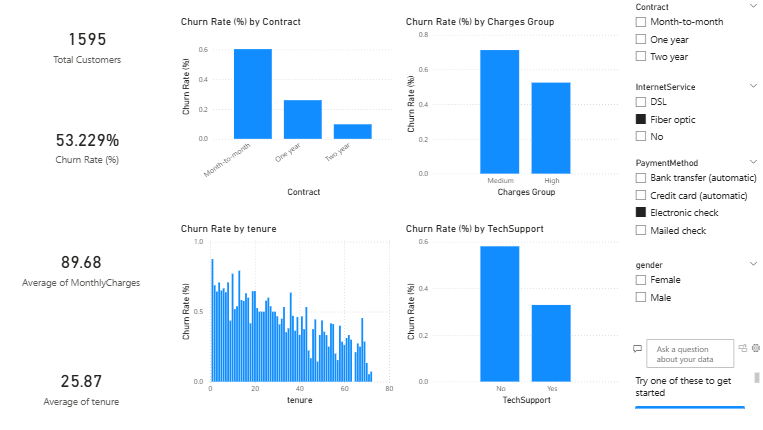

What the dashboard file says about the page in this screenshot:
{"tool":"powerbi","page":{"name":"Page 1","canvas":[1280,720],"ordinal":0},"visuals":[{"type":"card","fields":{"Values":["cleaned_telco_churn.Total Customers"]},"box":[10.1,0,280.5,151.2],"z":0},{"type":"card","fields":{"Values":["cleaned_telco_churn.Churn Rate (%)"]},"box":[10.1,151.2,280.5,183.1],"z":1000},{"type":"card","fields":{"Values":["Avg(cleaned_telco_churn.MonthlyCharges)"]},"box":[0,371.2,280.5,151.2],"z":2000},{"type":"card","fields":{"Values":["Avg(cleaned_telco_churn.tenure)"]},"box":[0,569.4,280.5,151.2],"z":3000},{"type":"clusteredColumnChart","fields":{"Category":["cleaned_telco_churn.Contract"],"Y":["cleaned_telco_churn.Churn Rate (%)"]},"box":[302.4,26.9,364.5,307.4],"z":4000},{"type":"clusteredColumnChart","title":"Churn Rate by tenure","fields":{"Y":["cleaned_telco_churn.Churn Rate (%)"],"Category":["cleaned_telco_churn.tenure"]},"box":[302.4,371.2,364.5,309.1],"z":5000},{"type":"clusteredColumnChart","fields":{"Y":["cleaned_telco_churn.Churn Rate (%)"],"Category":["cleaned_telco_churn.Charges Group"]},"box":[677,26.9,364.5,307.4],"z":6000},{"type":"clusteredColumnChart","fields":{"Category":["cleaned_telco_churn.TechSupport"],"Y":["cleaned_telco_churn.Churn Rate (%)"]},"box":[677,371,365,309],"z":7000},{"type":"slicer","fields":{"Values":["cleaned_telco_churn.Contract"]},"box":[1051.5,0,228.5,132.7],"z":8000},{"type":"slicer","fields":{"Values":["cleaned_telco_churn.InternetService"]},"box":[1051.5,132.7,228.5,136.1],"z":9000},{"type":"slicer","fields":{"Values":["cleaned_telco_churn.PaymentMethod"]},"box":[1051.5,260.4,228.5,169.7],"z":10000},{"type":"slicer","fields":{"Values":["cleaned_telco_churn.gender"]},"box":[1051.5,430,228.5,110.9],"z":11000}]}

Visuals, with their boxes on the page's 1280x720 design canvas (x1, y1, x2, y2). These are canvas units, not pixel positions in the 763x430 screenshot, which may show the page scaled, cropped or inside an application window:
card - cleaned_telco_churn.Total Customers: bbox(10, 0, 291, 151)
card - cleaned_telco_churn.Churn Rate (%): bbox(10, 151, 291, 334)
card - Avg(cleaned_telco_churn.MonthlyCharges): bbox(0, 371, 280, 522)
card - Avg(cleaned_telco_churn.tenure): bbox(0, 569, 280, 721)
clusteredColumnChart - cleaned_telco_churn.Contract x cleaned_telco_churn.Churn Rate (%): bbox(302, 27, 667, 334)
"Churn Rate by tenure" clusteredColumnChart: bbox(302, 371, 667, 680)
clusteredColumnChart - cleaned_telco_churn.Churn Rate (%) x cleaned_telco_churn.Charges Group: bbox(677, 27, 1042, 334)
clusteredColumnChart - cleaned_telco_churn.TechSupport x cleaned_telco_churn.Churn Rate (%): bbox(677, 371, 1042, 680)
slicer - cleaned_telco_churn.Contract: bbox(1052, 0, 1280, 133)
slicer - cleaned_telco_churn.InternetService: bbox(1052, 133, 1280, 269)
slicer - cleaned_telco_churn.PaymentMethod: bbox(1052, 260, 1280, 430)
slicer - cleaned_telco_churn.gender: bbox(1052, 430, 1280, 541)
